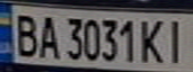0: (81, 15, 103, 62)
1: (118, 16, 139, 63)
3: (60, 14, 84, 61), (100, 16, 121, 62)
A: (33, 11, 60, 60)
B: (9, 9, 42, 58)
I: (160, 16, 193, 64)
K: (136, 16, 169, 64)
